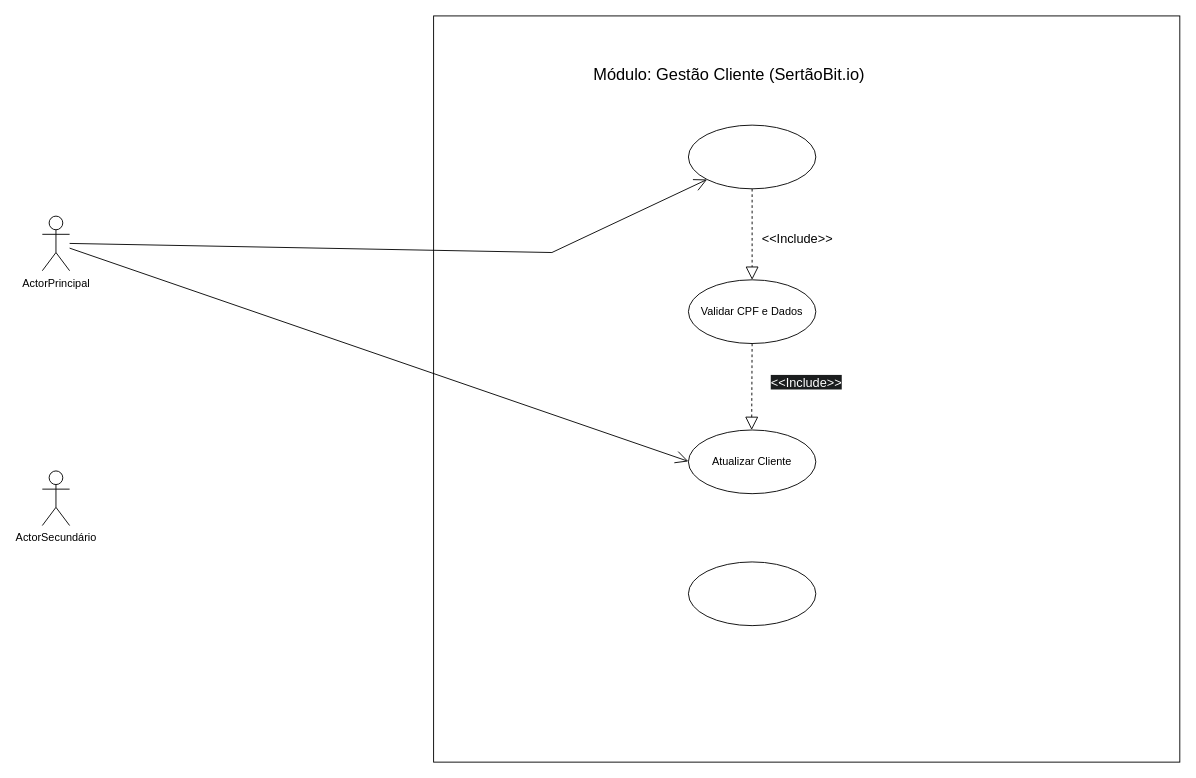
Image size: 1196x778. Some labels were removed from this diagram. Here are the shapes that lost their labels. From the top down, the centre of each, then its label:
the point at 752,156: Cadastrar Cliente
the point at 752,593: Atualizar Endereço / Contato
